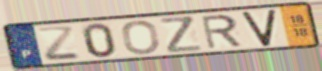0: (81, 21, 119, 60)
O: (120, 19, 162, 56)
R: (199, 13, 245, 51)
V: (240, 8, 278, 49)
Z: (158, 14, 206, 54), (35, 25, 82, 63)
